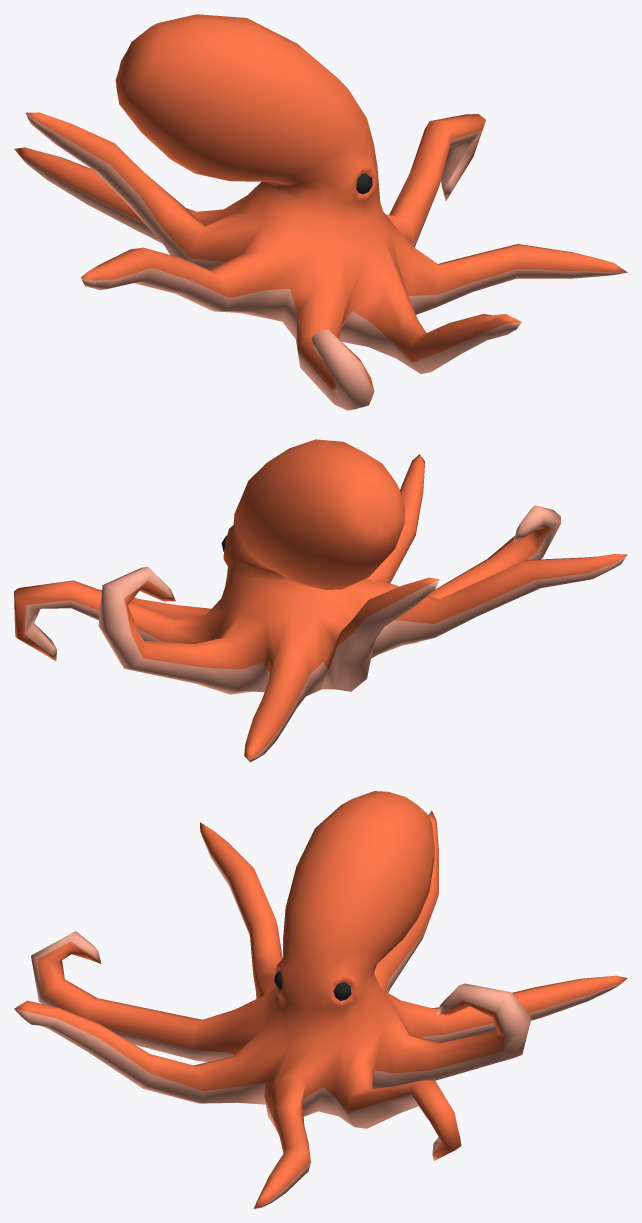
The model's file is Octopus_004.glb.
3 views of the same model, one above another, from view 1: azimuth 30°, elevation 25°; view 2: azimuth 150°, elevation 25°; view 3: azimuth 270°, elevation 25° (orthographic). The views are drawn at different scales.
Visible parts, largest first — view 1: Octopus_004; view 2: Octopus_004; view 3: Octopus_004.
Part boxes in pixels (<box>): Octopus_004: <box>14,14,627,410</box>; Octopus_004: <box>14,439,627,762</box>; Octopus_004: <box>14,791,627,1208</box>.
Size of the model in its own units: 2.43 by 1.2 by 2.54.
Materials: 1 (1 with a texture image).
